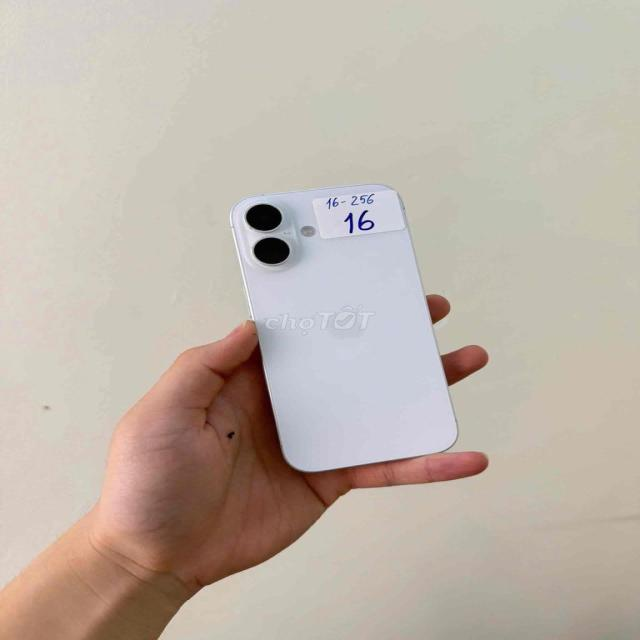gen_16: (222, 179, 470, 481)
